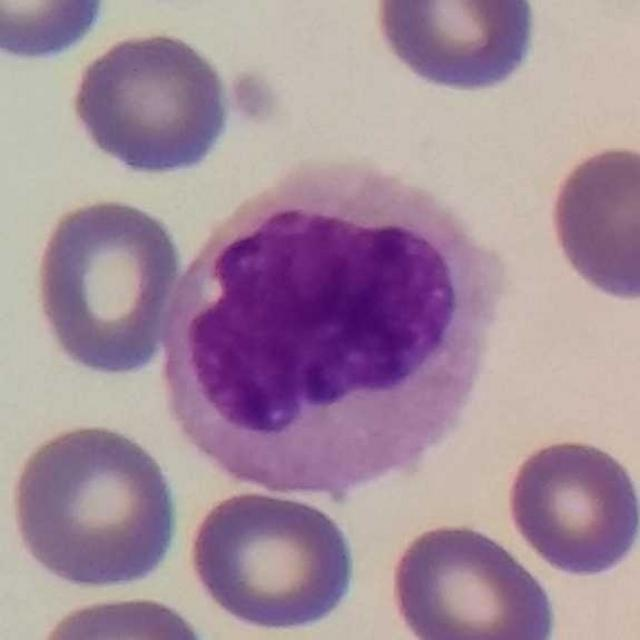Monocyte: (148, 142, 519, 508)
Platelets: (225, 66, 284, 132)
RBC: (2, 416, 184, 594), (27, 192, 186, 380), (181, 485, 363, 637), (63, 24, 235, 180), (384, 516, 561, 639), (501, 432, 640, 581), (367, 0, 543, 99), (542, 139, 640, 307), (25, 590, 217, 640), (0, 0, 116, 67)
